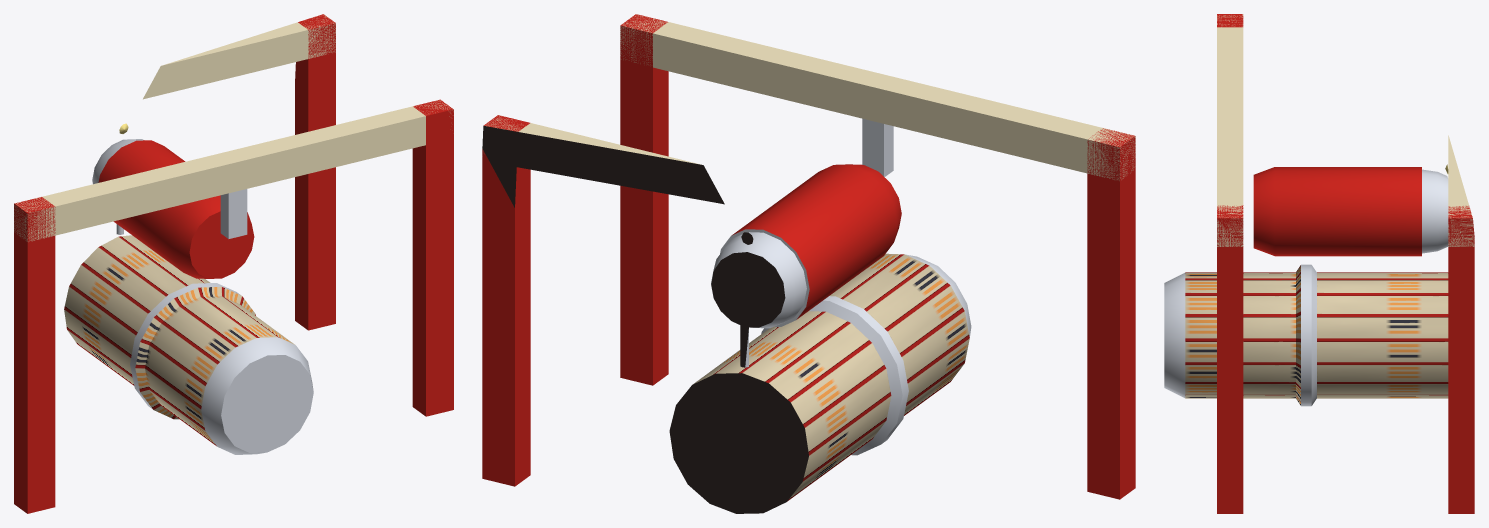
Rendered from manufacturing_center_debris3.obj.
3 views of the same model, side by side, from view 1: azimuth 30°, elevation 25°; view 2: azimuth 150°, elevation 25°; view 3: azimuth 270°, elevation 25° (orthographic). The views are drawn at different scales.
Parts seen in each view (by area): view 1: gantry_leg, spine, gantry_beam, rocket_in_build, gantry_hook; view 2: gantry_leg, spine, gantry_beam, rocket_in_build, gantry_hook; view 3: spine, rocket_in_build, gantry_leg, gantry_beam.
Part boxes in pixels (left/top/right/bottom): gantry_leg: left=14, top=14, right=453, bottom=513; spine: left=64, top=235, right=313, bottom=454; gantry_beam: left=14, top=14, right=453, bottom=241; rocket_in_build: left=92, top=139, right=254, bottom=278; gantry_hook: left=220, top=189, right=247, bottom=238; gantry_leg: left=482, top=14, right=1135, bottom=499; spine: left=669, top=253, right=971, bottom=513; gantry_beam: left=482, top=14, right=1135, bottom=204; rocket_in_build: left=711, top=164, right=901, bottom=328; gantry_hook: left=862, top=118, right=893, bottom=177; spine: left=1164, top=264, right=1448, bottom=406; rocket_in_build: left=1253, top=167, right=1448, bottom=256; gantry_leg: left=1217, top=14, right=1474, bottom=513; gantry_beam: left=1217, top=14, right=1474, bottom=246.
Size of the model in its own units: 92 by 62 by 59.
6 materials, 1 textured.
